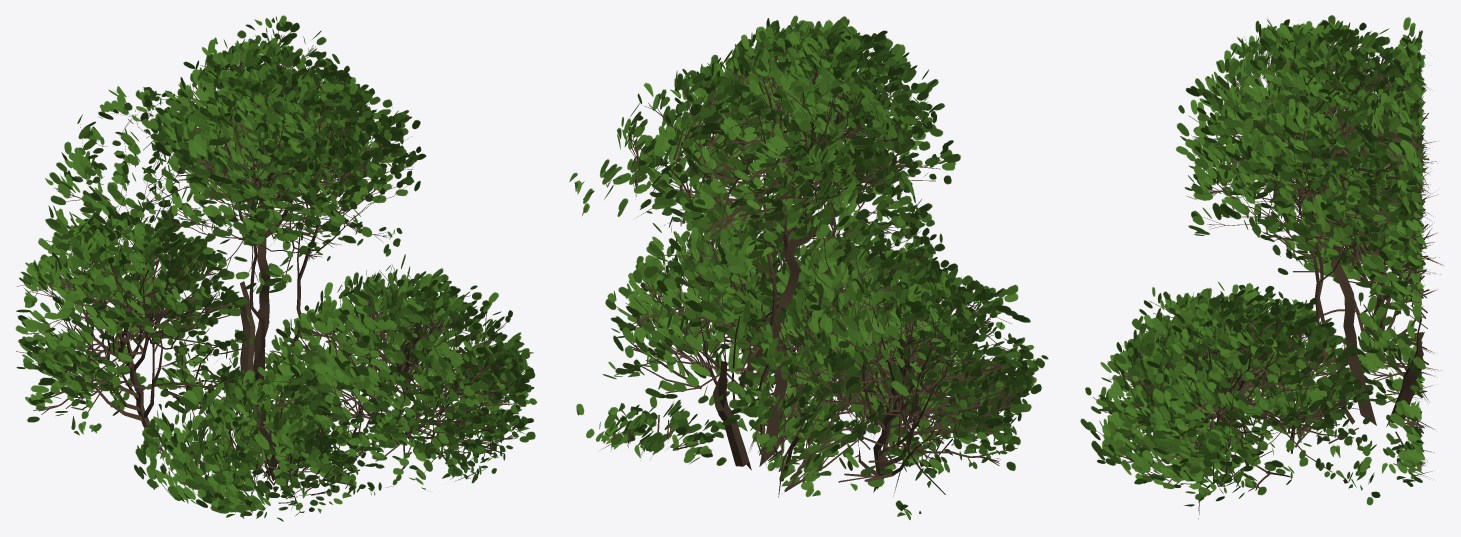
3 views of the same model, side by side, from view 1: azimuth 30°, elevation 25°; view 2: azimuth 150°, elevation 25°; view 3: azimuth 270°, elevation 25° (orthographic). The views are drawn at different scales.
Parts seen in each view (by area): view 1: oak 01.001_trunk_Mat.001_0.293; view 2: oak 01.001_trunk_Mat.001_0.293; view 3: oak 01.001_trunk_Mat.001_0.293.
Part boxes in pixels (x1=…): oak 01.001_trunk_Mat.001_0.293: x1=15, y1=15, x2=536, y2=521; oak 01.001_trunk_Mat.001_0.293: x1=569, y1=15, x2=1048, y2=519; oak 01.001_trunk_Mat.001_0.293: x1=1080, y1=15, x2=1443, y2=518.
Size of the model in its own units: 5.15 by 4.41 by 3.59.
Materials: 2 (1 with a texture image).
